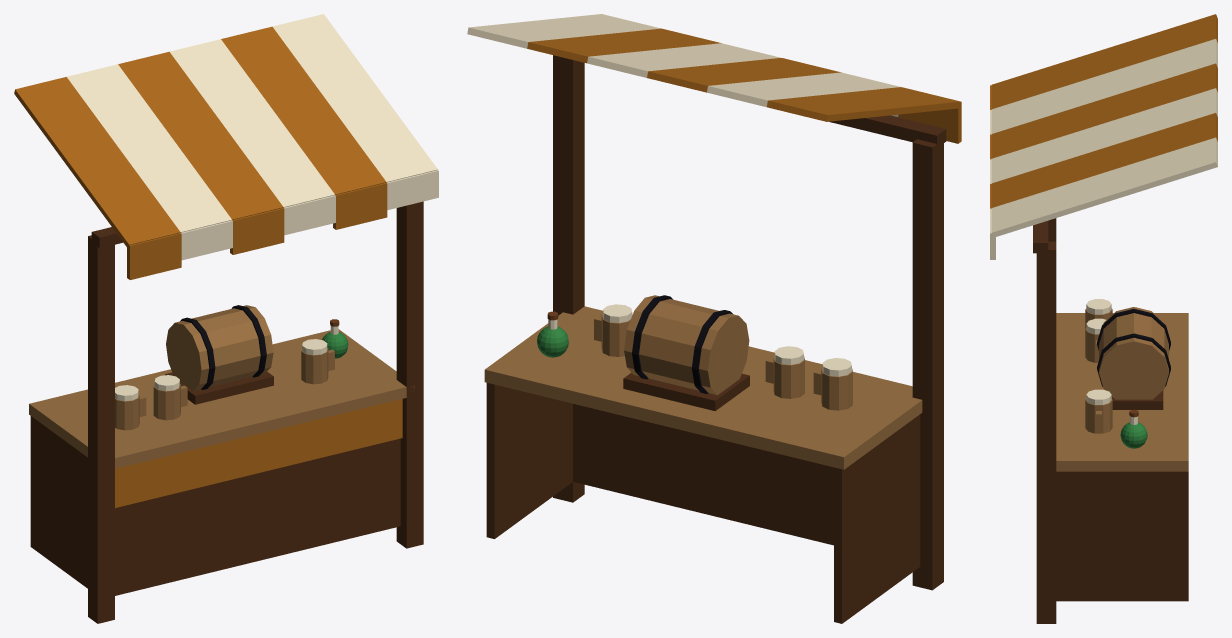
Rendered from shop_tavern_stall.gltf.
The picture shows the model from 3 angles, left to right: view 1: azimuth 30°, elevation 25°; view 2: azimuth 150°, elevation 25°; view 3: azimuth 270°, elevation 25°; orthographic projection. The views are drawn at different scales.
Parts seen in each view (by area): view 1: ShopTavernStallShopWood, ShopTavernStallShopCloth, ShopTavernStallShopCream, ShopTavernStallShopWoodLight, ShopTavernStallShopIron; view 2: ShopTavernStallShopWood, ShopTavernStallShopWoodLight, ShopTavernStallShopCloth, ShopTavernStallShopCream, ShopTavernStallShopIron, ShopTavernStallShopGreen; view 3: ShopTavernStallShopWood, ShopTavernStallShopCream, ShopTavernStallShopWoodLight, ShopTavernStallShopCloth, ShopTavernStallShopIron, ShopTavernStallShopGreen.
Boxes of the visible parts, x1,y1,x2,y2 form: ShopTavernStallShopWood: (30,201,423,623); ShopTavernStallShopCloth: (14,26,402,507); ShopTavernStallShopCream: (67,14,438,401); ShopTavernStallShopWoodLight: (29,305,414,468); ShopTavernStallShopIron: (180,305,266,389); ShopTavernStallShopWood: (486,55,946,623); ShopTavernStallShopWoodLight: (484,295,922,469); ShopTavernStallShopCloth: (527,28,961,143); ShopTavernStallShopCream: (467,14,901,376); ShopTavernStallShopIron: (632,295,732,393); ShopTavernStallShopGreen: (537,326,568,357); ShopTavernStallShopWood: (1033,218,1188,623); ShopTavernStallShopCream: (990,39,1217,424); ShopTavernStallShopWoodLight: (1056,307,1188,471); ShopTavernStallShopCloth: (990,14,1217,208); ShopTavernStallShopIron: (1097,309,1170,386); ShopTavernStallShopGreen: (1120,422,1147,448).
Size of what is drawn, in the model's own units: 1.9 by 2.59 by 1.17.
